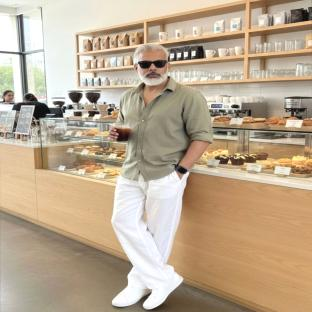Human: (111, 44, 212, 309)
